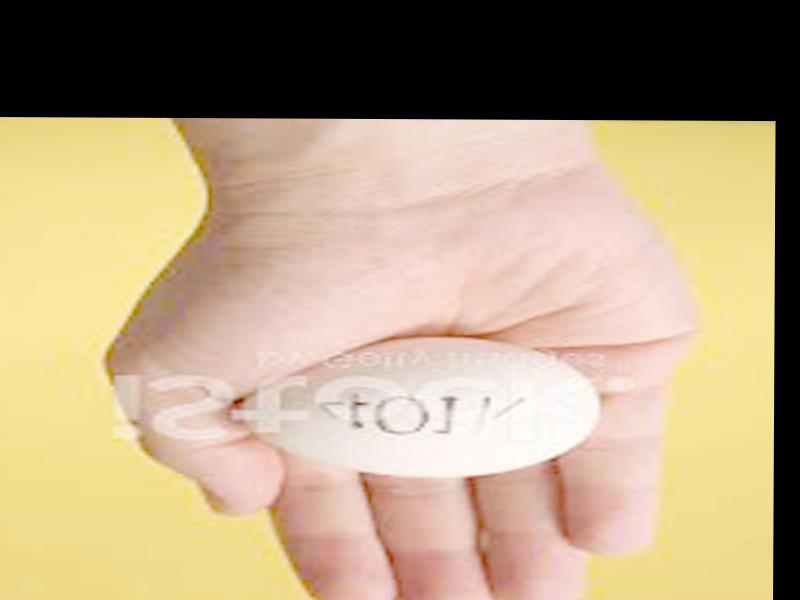Eggs: (240, 338, 600, 477)
